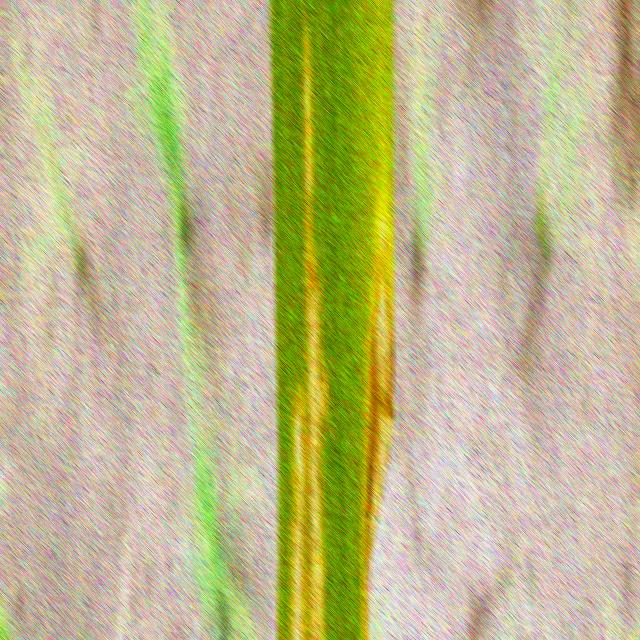BLS: (303, 25, 327, 640), (292, 393, 304, 640)
